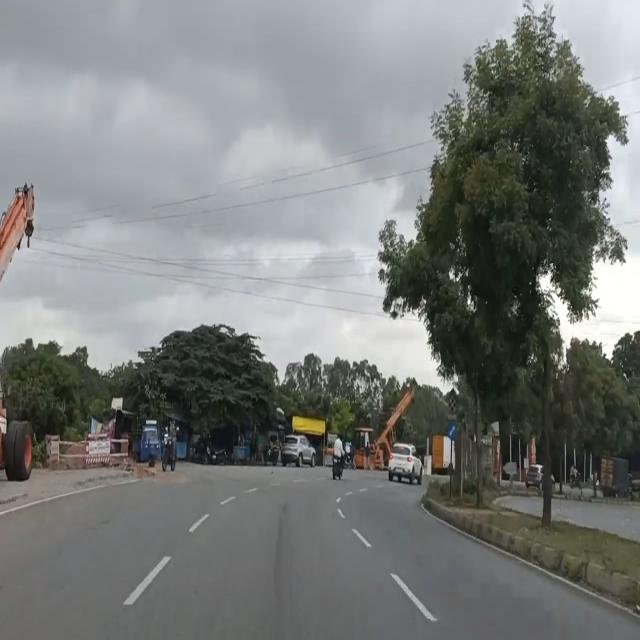bien_cam: (446, 419, 458, 440)
